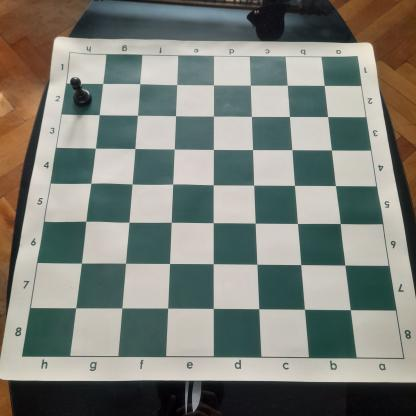black-pawn: (68, 76, 95, 108)
